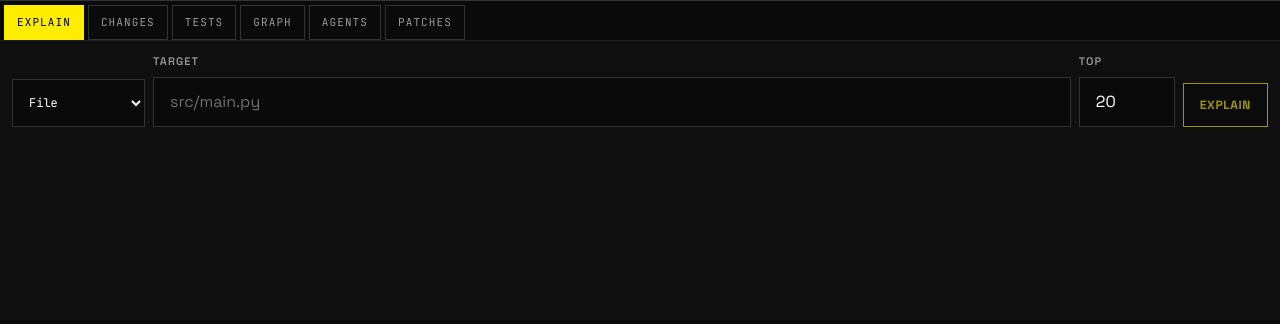
DeveloperPanel (developer intelligence) › loads a bounded dependency graph
Click the tab "Graph". click: (273, 22)
box: [240, 5, 305, 40]
(page scrolled)
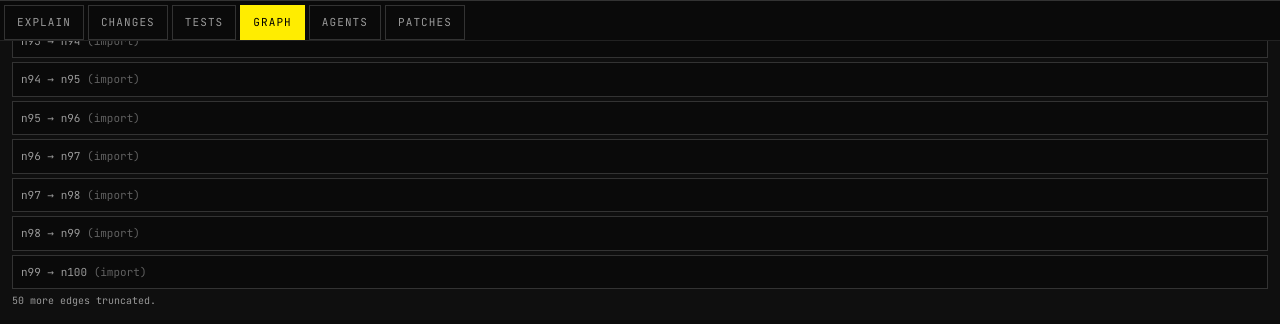
expect the text "50 more edges truncated." is shown: met, box [12, 294, 156, 307]
